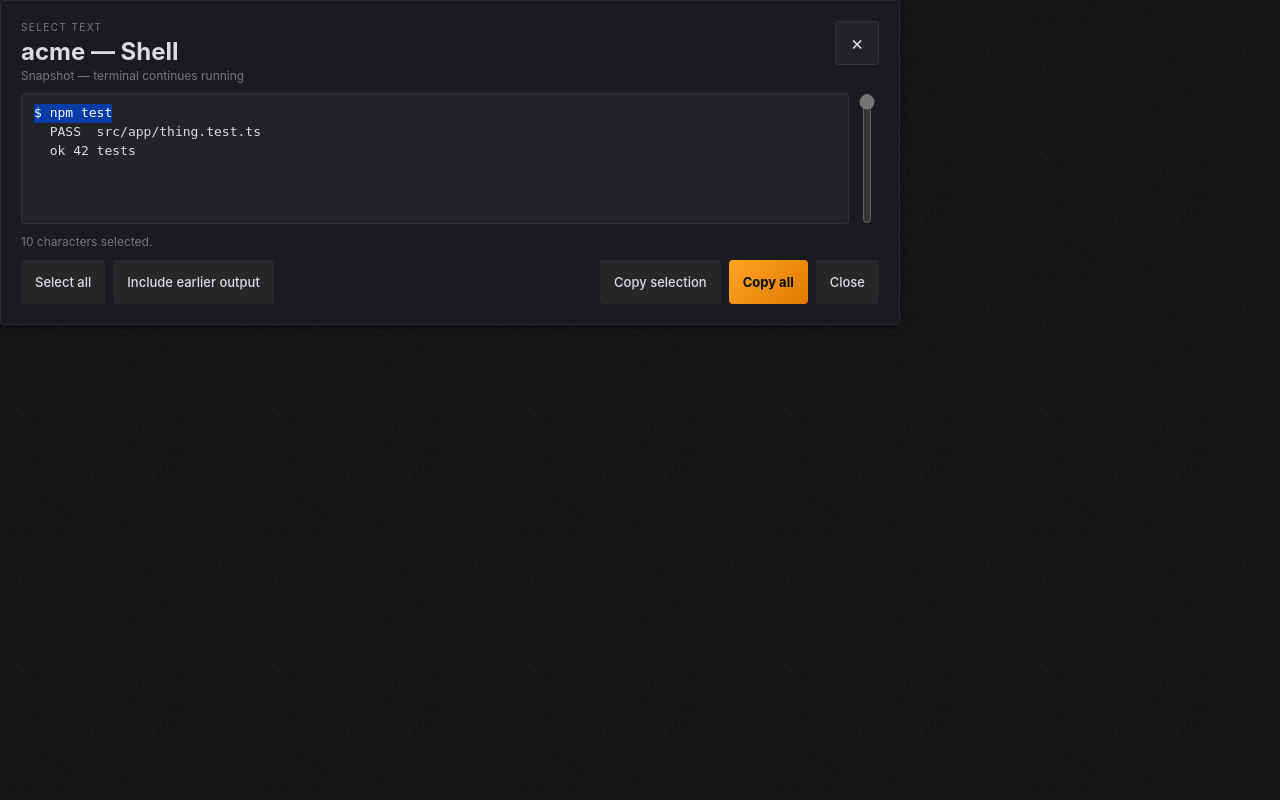
TerminalTextSelectionDialog › include earlier output › replaces the snapshot with a longer one and clears the selection
Click the button "Include earlier output" at coordinates (194, 282), box left=113, top=260, right=274, bottom=304
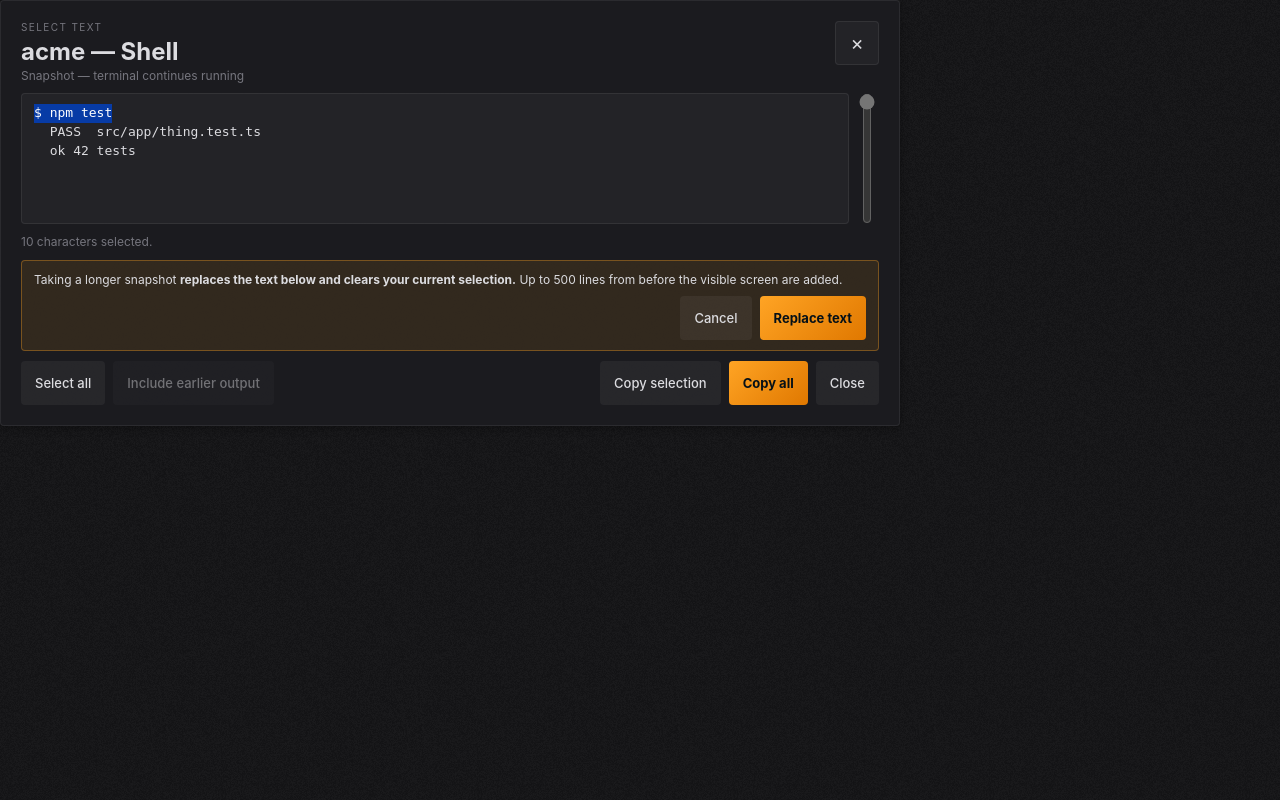
Expected: the button "Replace text" is shown
Click the button "Replace text" at coordinates (813, 318), box left=760, top=296, right=866, bottom=340
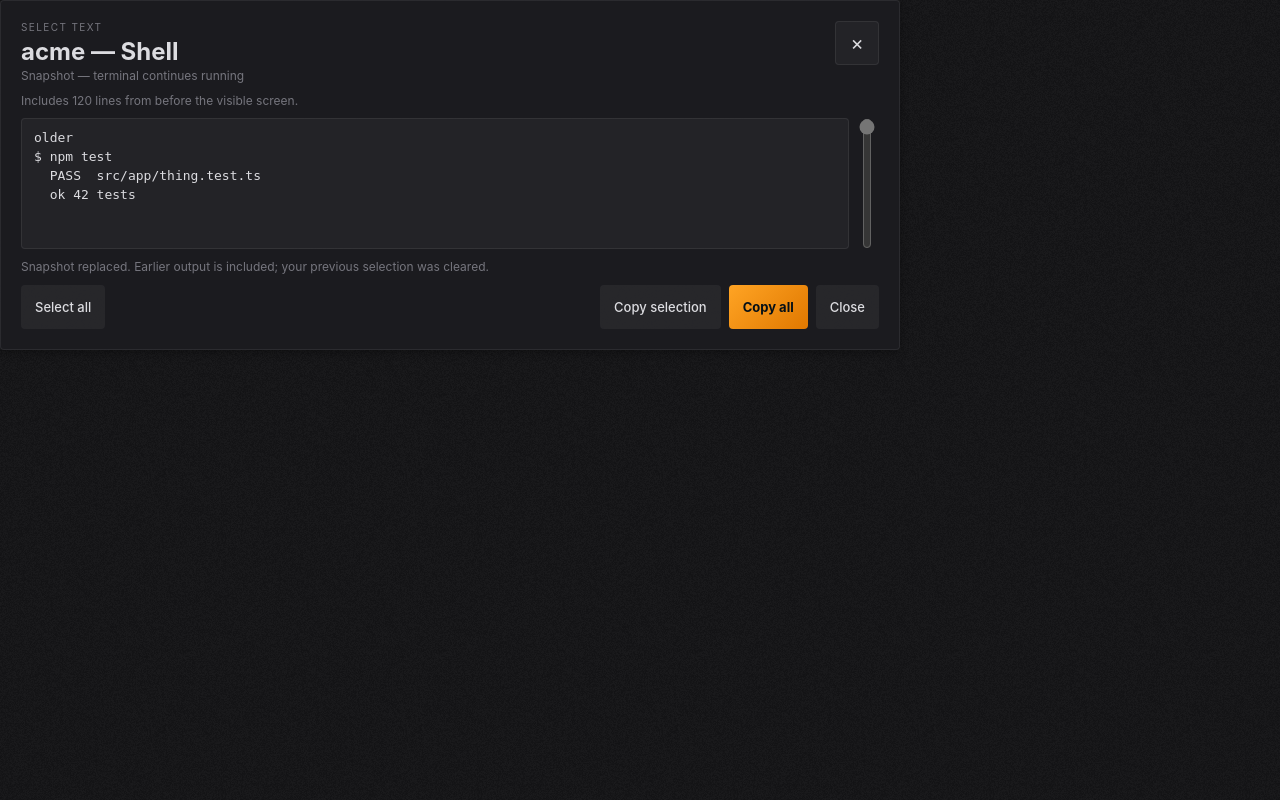
Expected: the text "Includes 120 lines from before the visible screen." is shown, left=21, top=93, right=298, bottom=108
Expected: the button "Include earlier output" no longer shows "Include earlier output"
